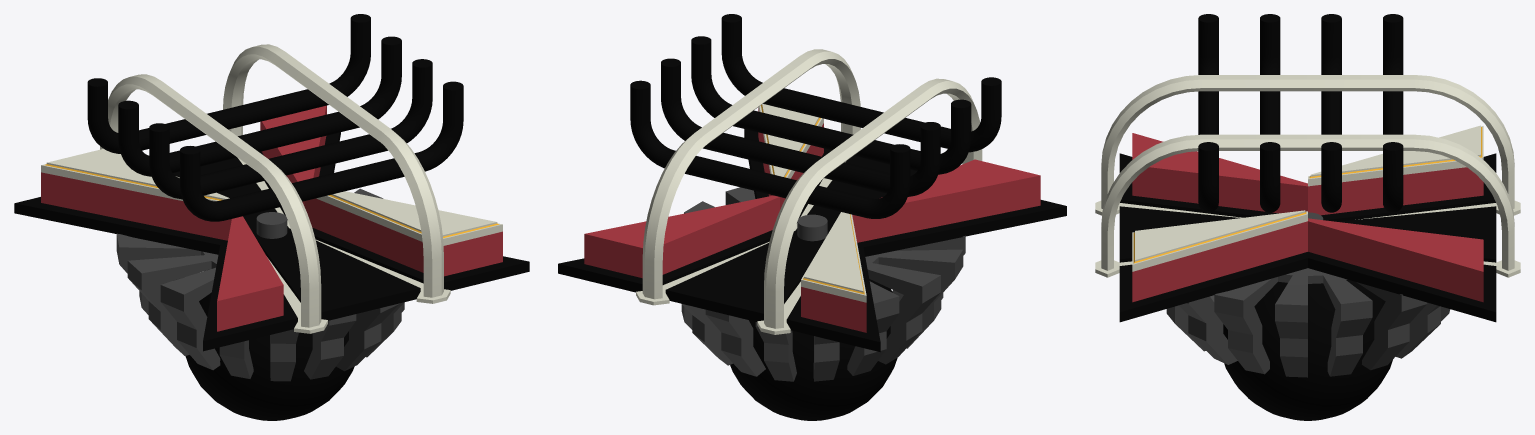
Rendered from Battery_Upgrade01.fbx.
3 views of the same model, side by side, from view 1: azimuth 30°, elevation 25°; view 2: azimuth 150°, elevation 25°; view 3: azimuth 270°, elevation 25° (orthographic).
Parts seen in each view (by area): view 1: LowerBody02; view 2: LowerBody02; view 3: LowerBody02.
Boxes of the visible parts, x1,y1,x2,y2 form: LowerBody02: [14, 14, 529, 420]; LowerBody02: [558, 14, 1066, 420]; LowerBody02: [1095, 14, 1520, 420].
Bounding box in the file's own units: 0.413 × 0.3998 × 0.4664.
